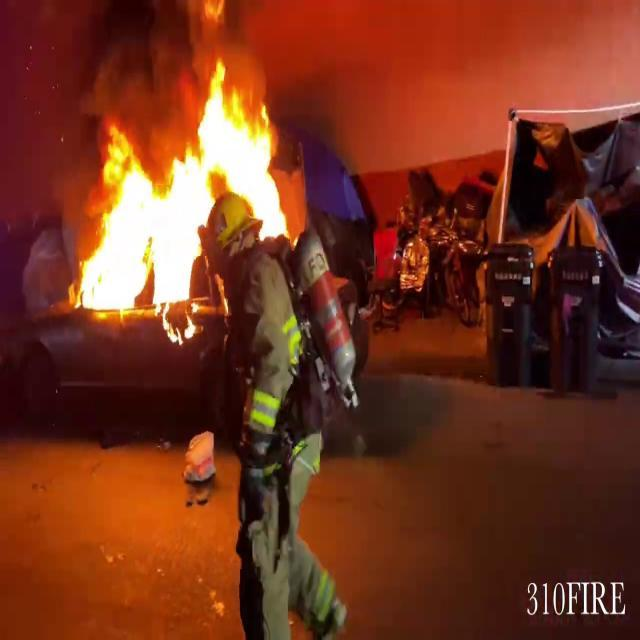Fire: (63, 48, 294, 324)
